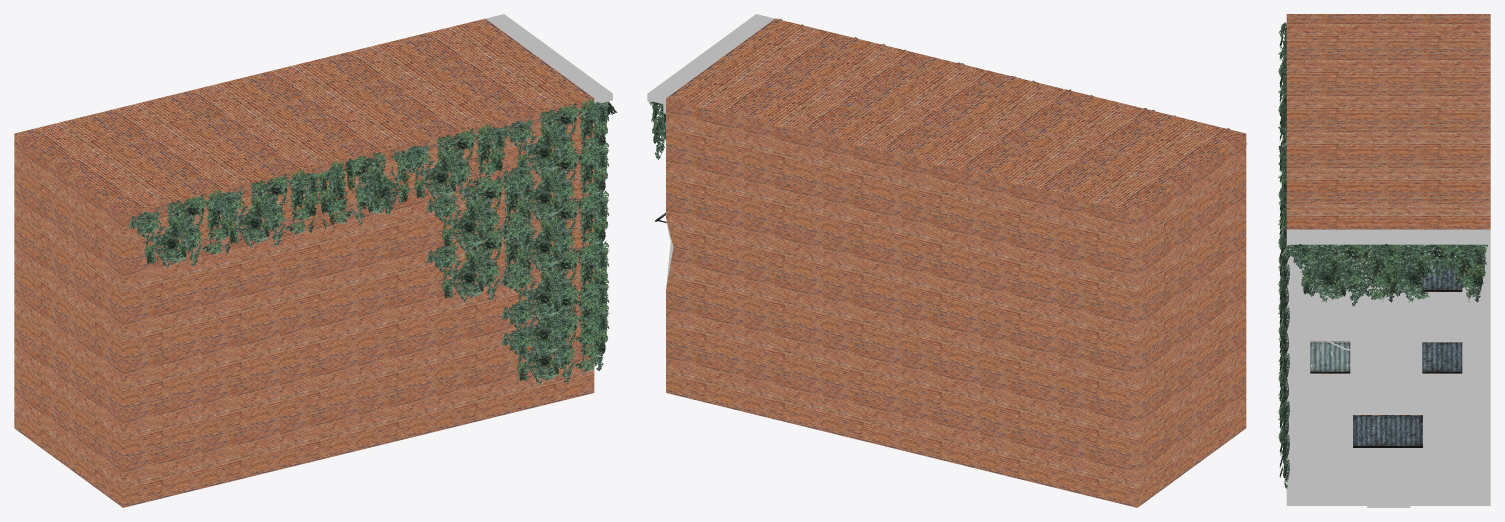
File: House3.fbx
The picture shows the model from 3 angles, left to right: view 1: azimuth 30°, elevation 25°; view 2: azimuth 150°, elevation 25°; view 3: azimuth 270°, elevation 25°; orthographic projection. The views are drawn at different scales.
Visible parts, largest first — view 1: house3; view 2: house3; view 3: house3.
Part boxes in pixels (x1,y1,x2,y2): house3: (14, 14, 617, 507); house3: (647, 14, 1247, 507); house3: (1278, 14, 1490, 507).
Bounding box in the file's own units: 1616 × 921 × 640.
